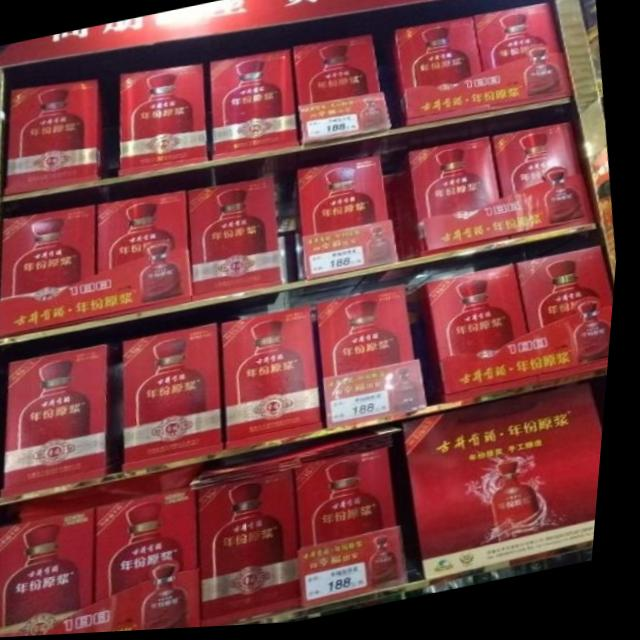box: (409, 386, 611, 584), (304, 452, 418, 611), (420, 272, 545, 409), (208, 473, 312, 630), (13, 345, 113, 498), (107, 488, 210, 634), (227, 310, 332, 452), (130, 327, 231, 472), (323, 290, 423, 434), (295, 162, 405, 284), (0, 511, 104, 638), (3, 206, 101, 340), (521, 252, 619, 384), (408, 142, 514, 263), (101, 194, 200, 319), (497, 126, 601, 243), (193, 181, 292, 301), (384, 23, 491, 133), (7, 77, 103, 196), (294, 39, 391, 149), (479, 9, 575, 116), (121, 66, 212, 176), (212, 54, 302, 163)
